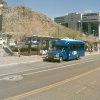Bus: (45, 36, 87, 63)
